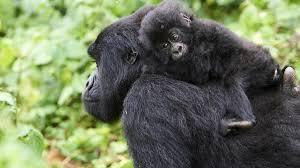goriile_montagne: (74, 10, 291, 161), (141, 3, 300, 110)
